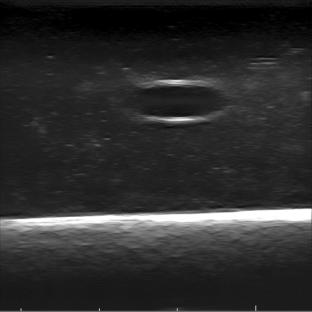vessel: (122, 78, 229, 123)
